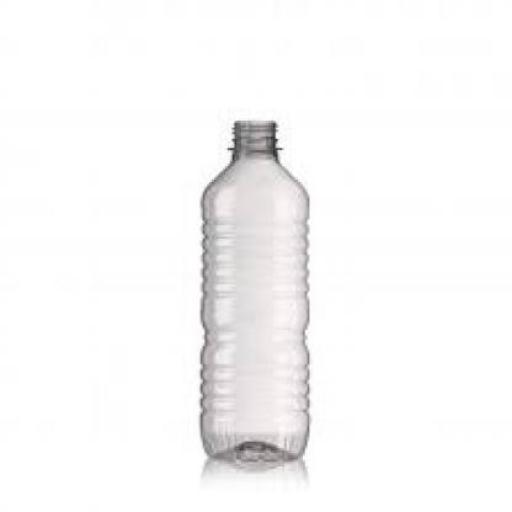plastic: (196, 118, 309, 462)
